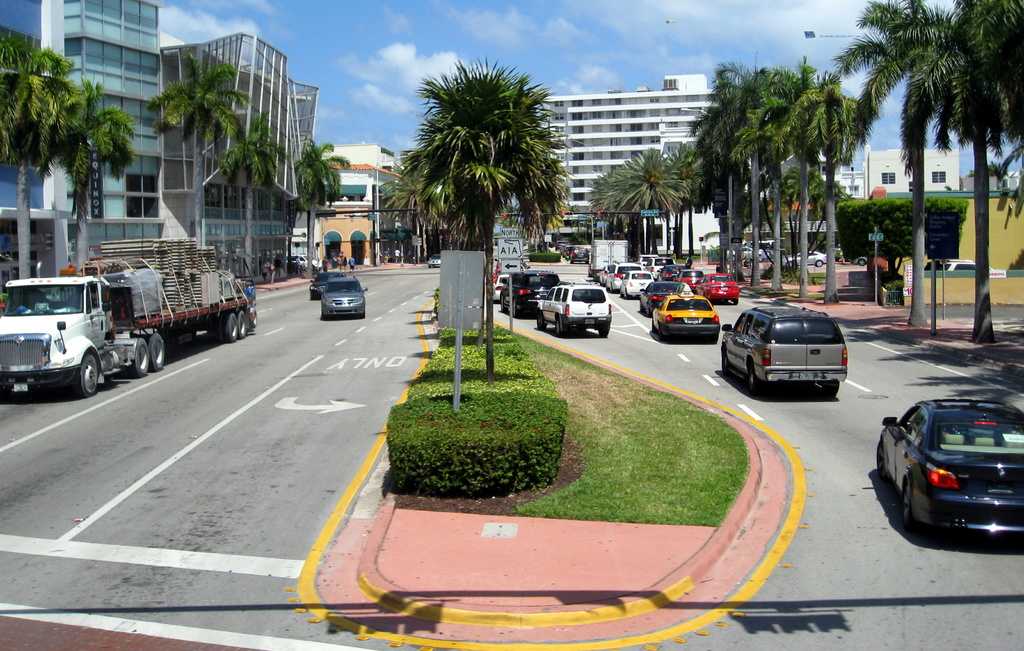Tree: (591, 0, 1023, 338), (380, 48, 571, 383), (146, 46, 254, 241), (0, 28, 76, 276), (218, 110, 287, 282), (292, 136, 348, 282)
